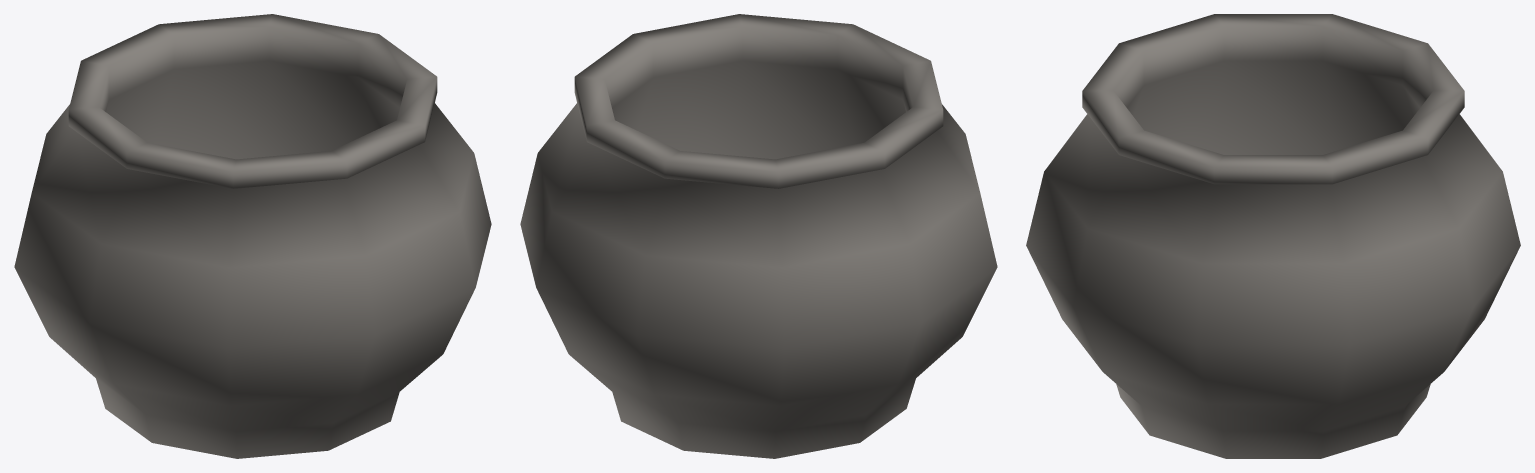
Rendered from rpgpp_ag_pot_01a.fbx.
3 renders of one model, left to right at view 1: azimuth 30°, elevation 25°; view 2: azimuth 150°, elevation 25°; view 3: azimuth 270°, elevation 25°, orthographic.
Visible parts, largest first — view 1: rpgpp_ag_pot_01a; view 2: rpgpp_ag_pot_01a; view 3: rpgpp_ag_pot_01a.
Part boxes in pixels (box(x1,y1,x2,y2)): rpgpp_ag_pot_01a: box(14, 14, 491, 458); rpgpp_ag_pot_01a: box(520, 14, 997, 458); rpgpp_ag_pot_01a: box(1026, 14, 1520, 458).
Bounding box in the file's own units: 0.5506 × 0.3959 × 0.579.
